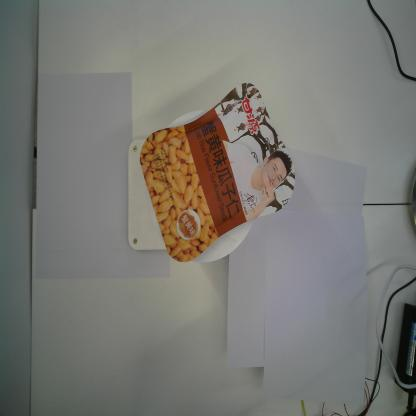Dried Fruit: (140, 81, 296, 263)
